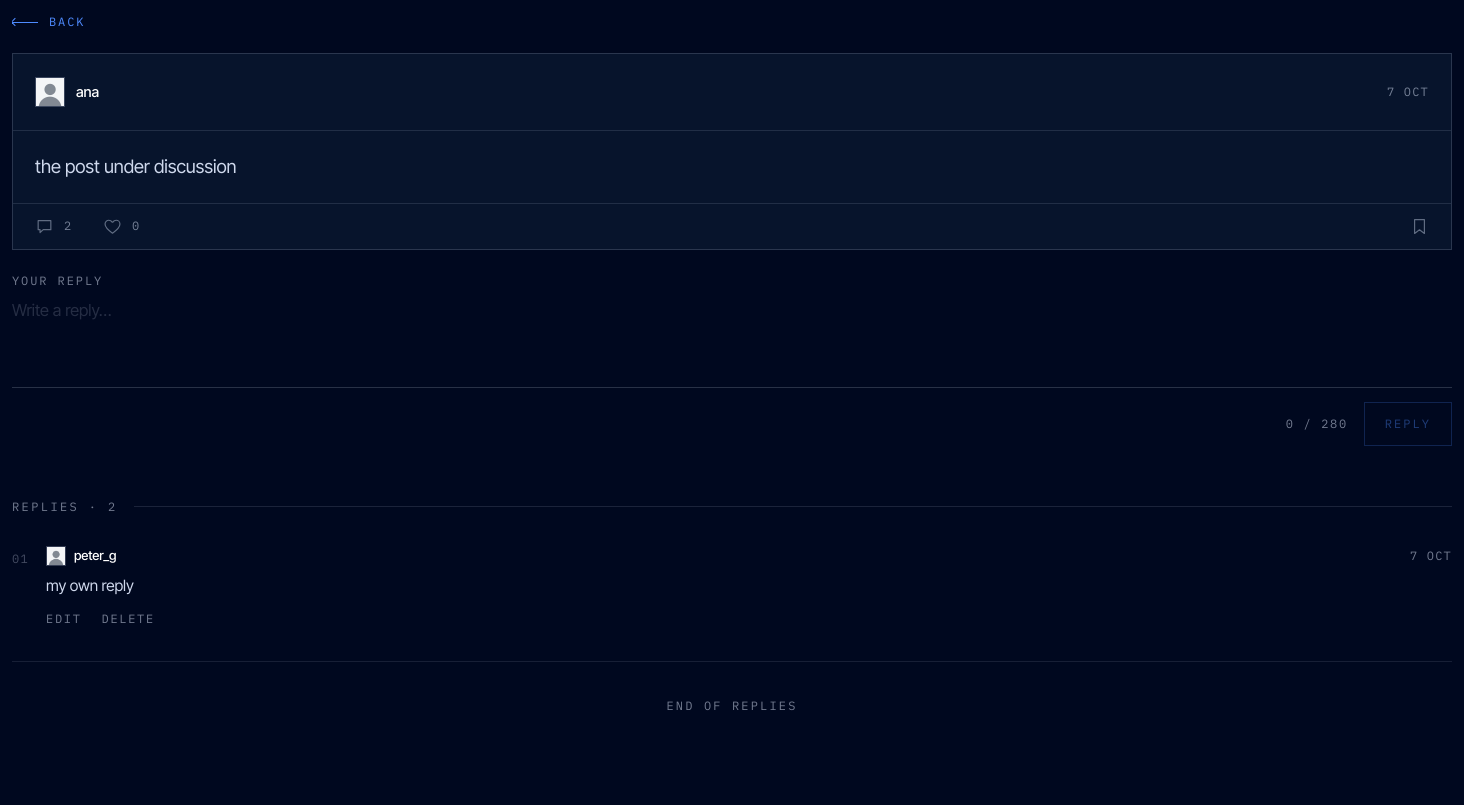
Scenario: your own reply › should_show_edited_and_the_new_text_when_an_edit_is_saved
The width and height of the screenshot is (1464, 805).
Step 1. Click the button "EDIT" → [64, 619], box [38, 597, 90, 641]
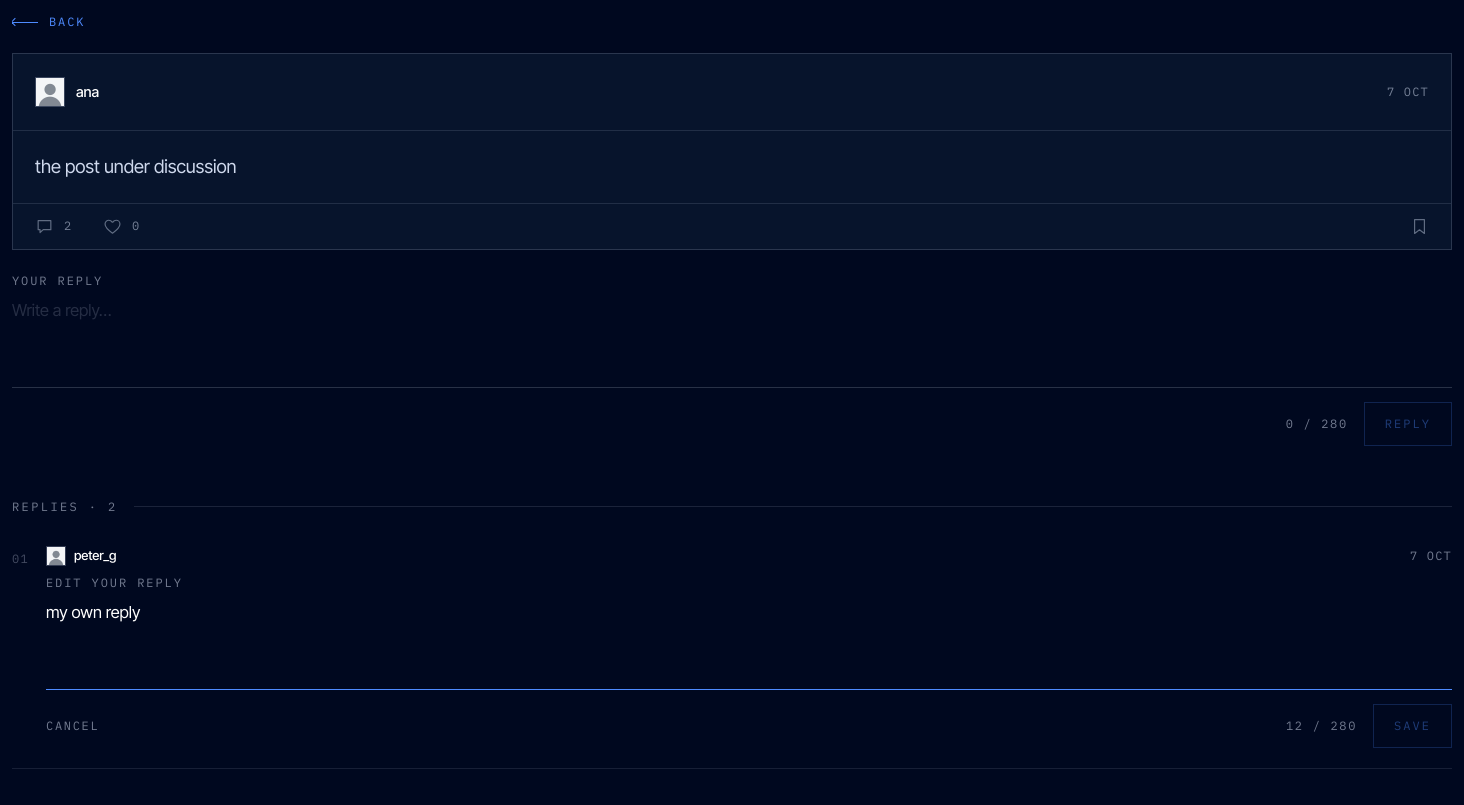
Step 2. Clear the text box labelled "EDIT YOUR REPLY" → [749, 644], box [46, 600, 1452, 689]
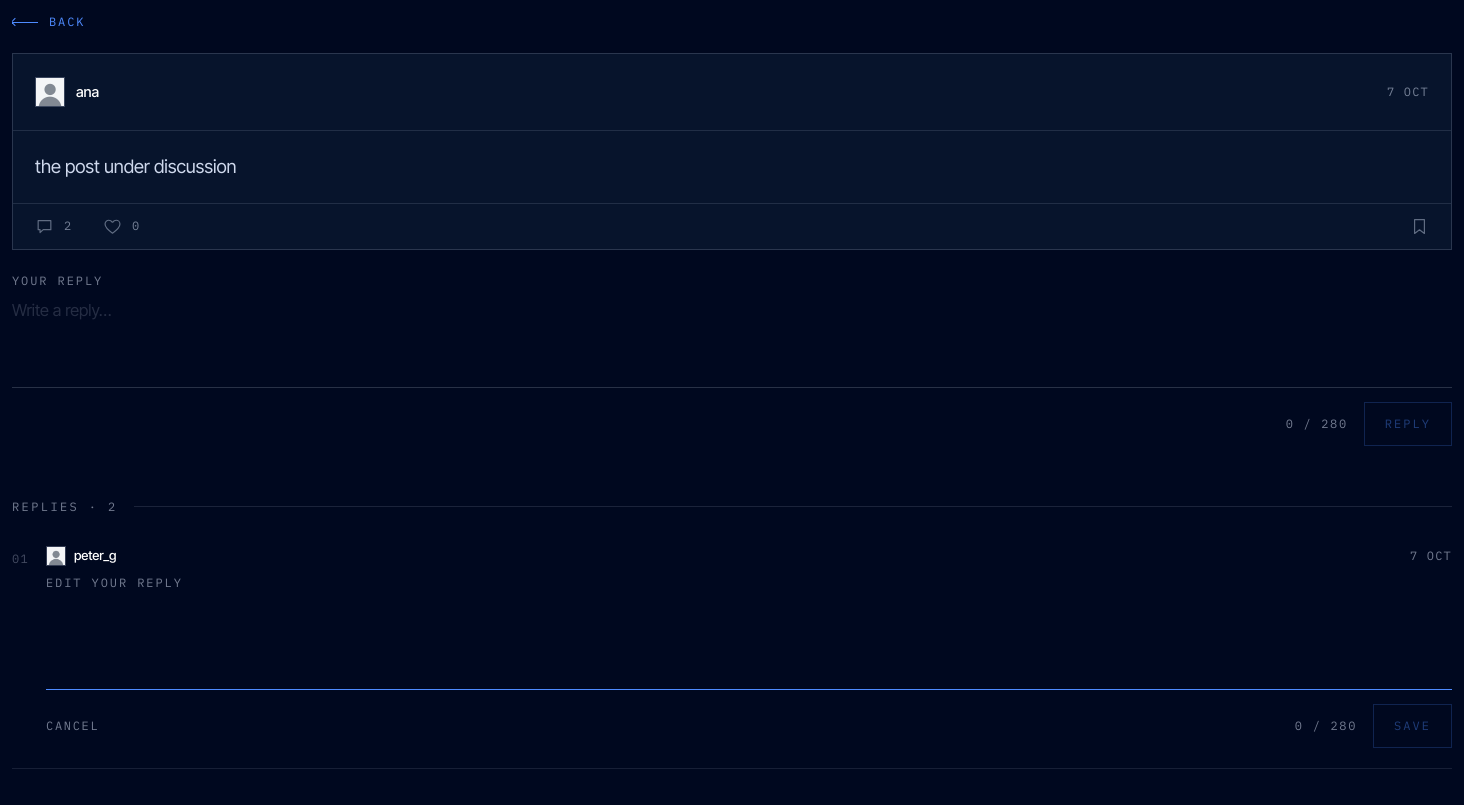
Step 3. Type keys "my changed reply"
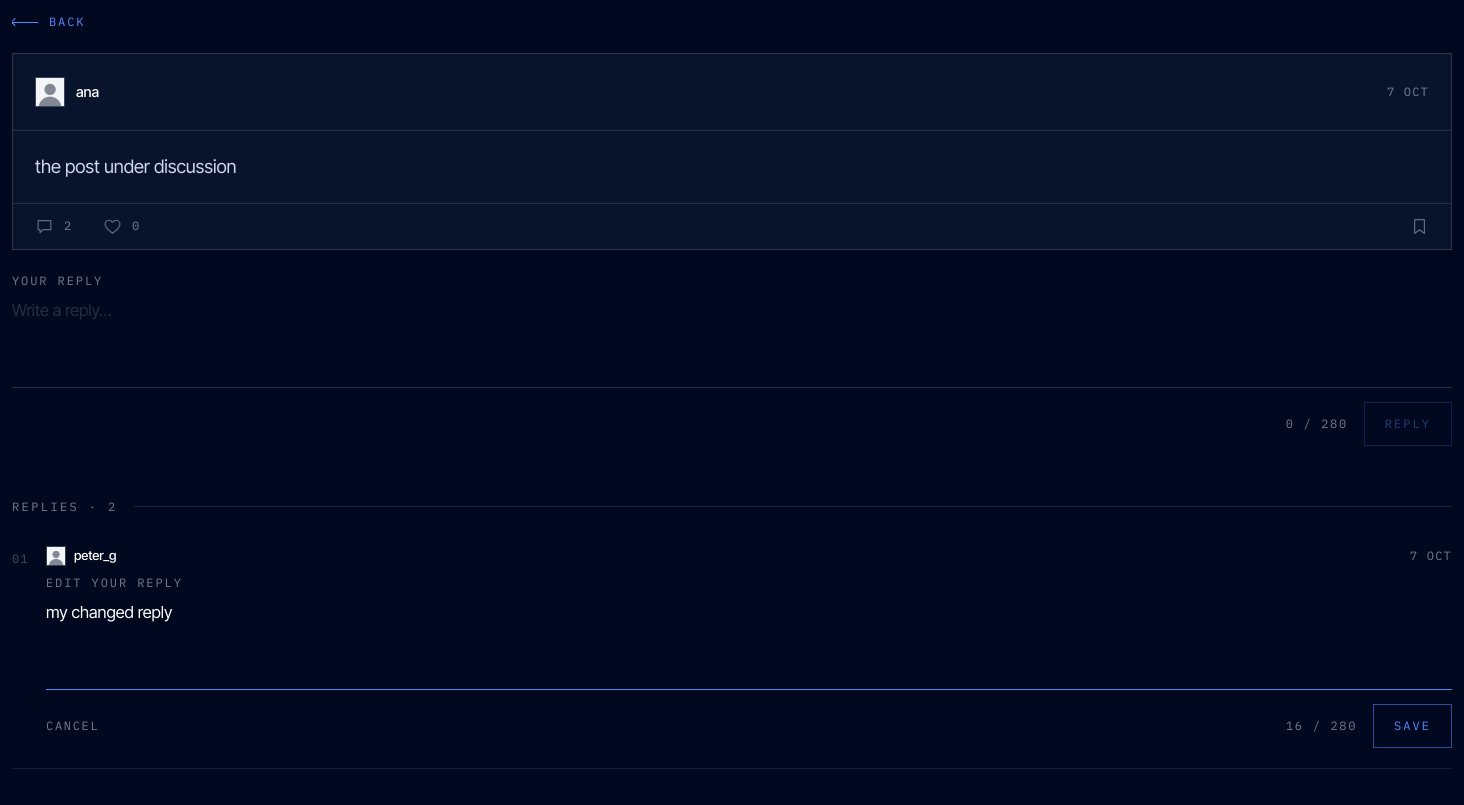
Step 4. Click the button "SAVE" → [1412, 726], box [1373, 704, 1452, 748]
Wait 1 ms
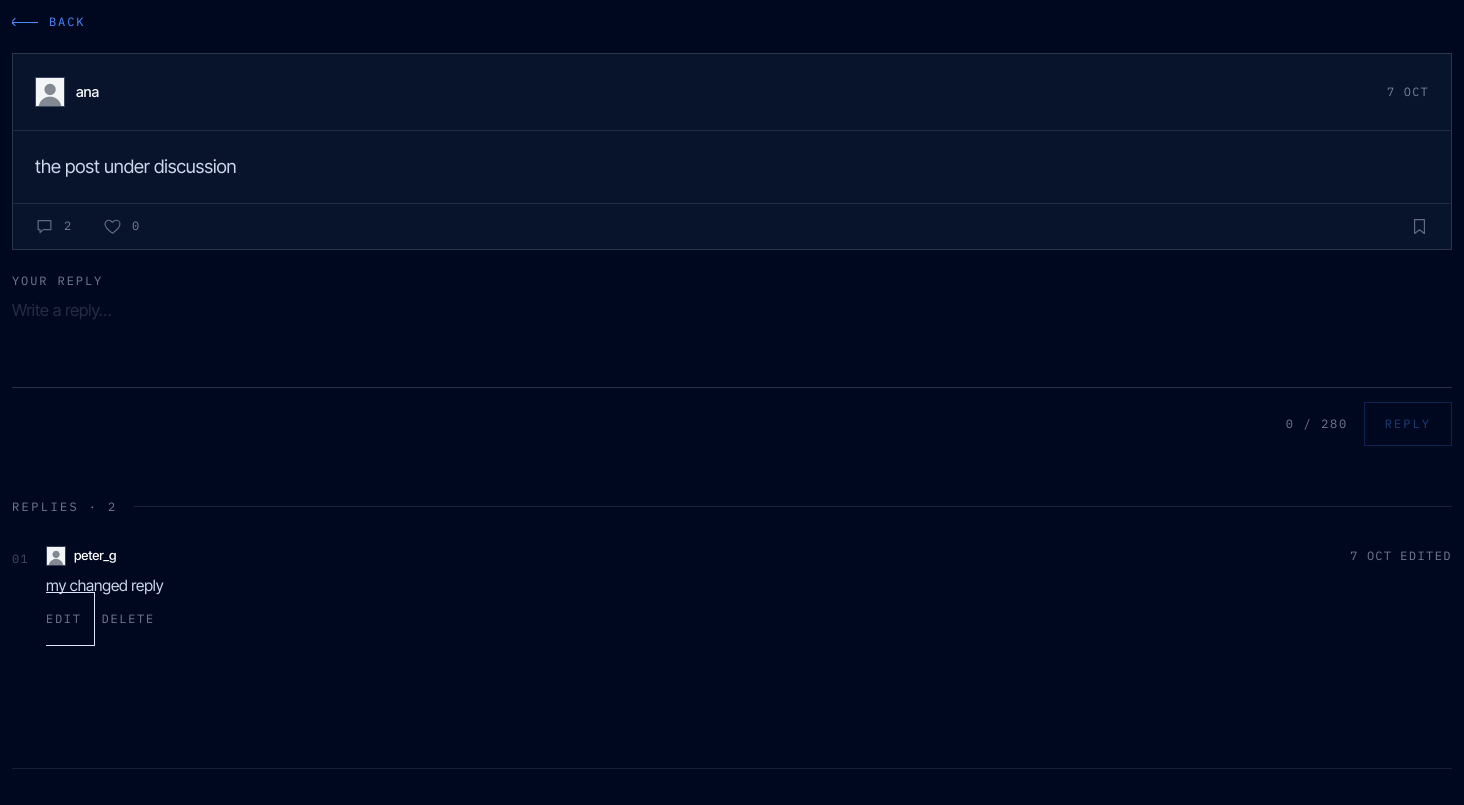
expect the text "my changed reply" is shown: met, box [46, 576, 164, 595]
expect the text "EDITED" is shown: met, box [1400, 548, 1452, 563]
